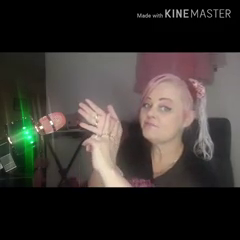V: (71, 92, 124, 178)
